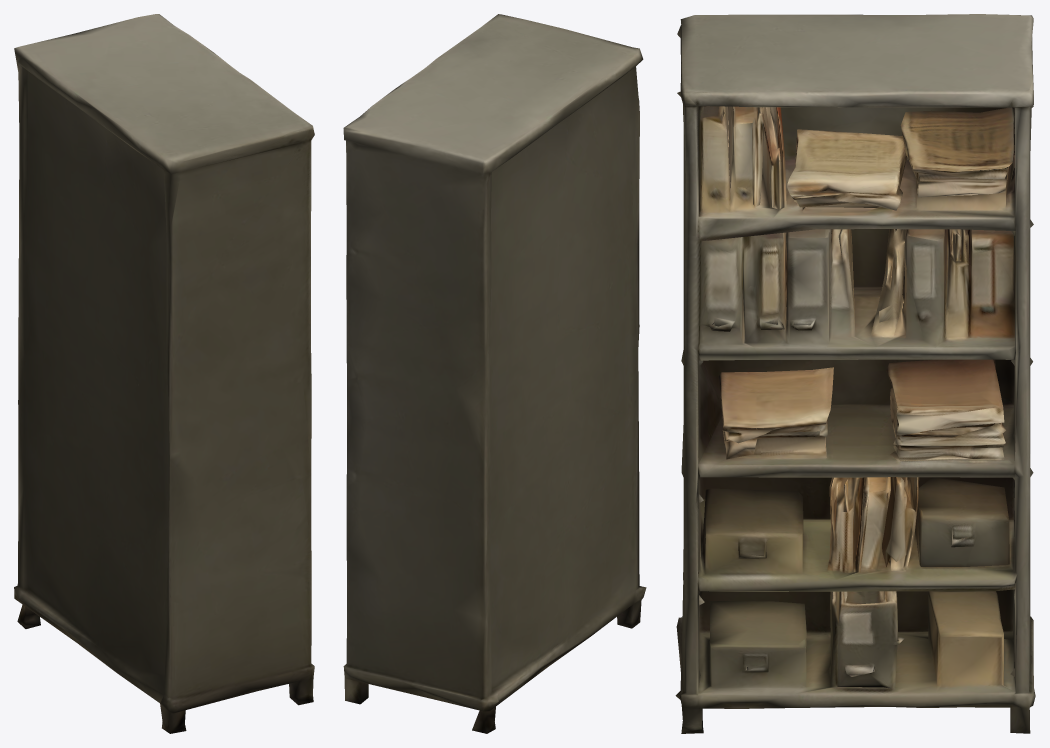
File: archive-shelf.glb
The picture shows the model from 3 angles, left to right: view 1: azimuth 30°, elevation 25°; view 2: azimuth 150°, elevation 25°; view 3: azimuth 270°, elevation 25°; orthographic projection. The views are drawn at different scales.
Visible parts, largest first — view 1: tripo_node_58e66043-2478-4387-8304-5059c70015d7; view 2: tripo_node_58e66043-2478-4387-8304-5059c70015d7; view 3: tripo_node_58e66043-2478-4387-8304-5059c70015d7.
Part boxes in pixels (x1,y1,x2,y2): tripo_node_58e66043-2478-4387-8304-5059c70015d7: [14, 14, 314, 733]; tripo_node_58e66043-2478-4387-8304-5059c70015d7: [343, 14, 646, 733]; tripo_node_58e66043-2478-4387-8304-5059c70015d7: [675, 14, 1035, 733].
Size of the model in its own units: 0.276 by 1 by 0.5079.
Materials: 1 (1 with a texture image).
